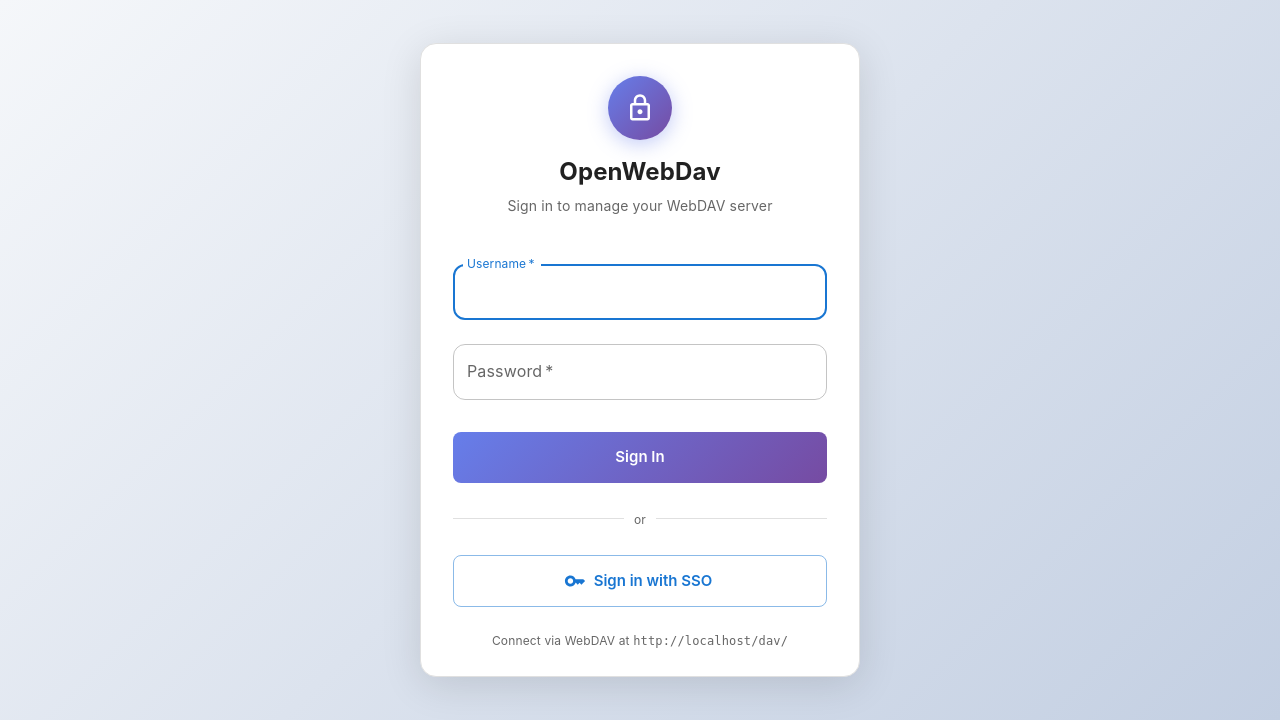
Test: LoginPage › shows error on invalid credentials
The image size is (1280, 720).
In the field labelled "Username *": (640, 292) x1=453 y1=264 x2=827 y2=320, type "wrong"
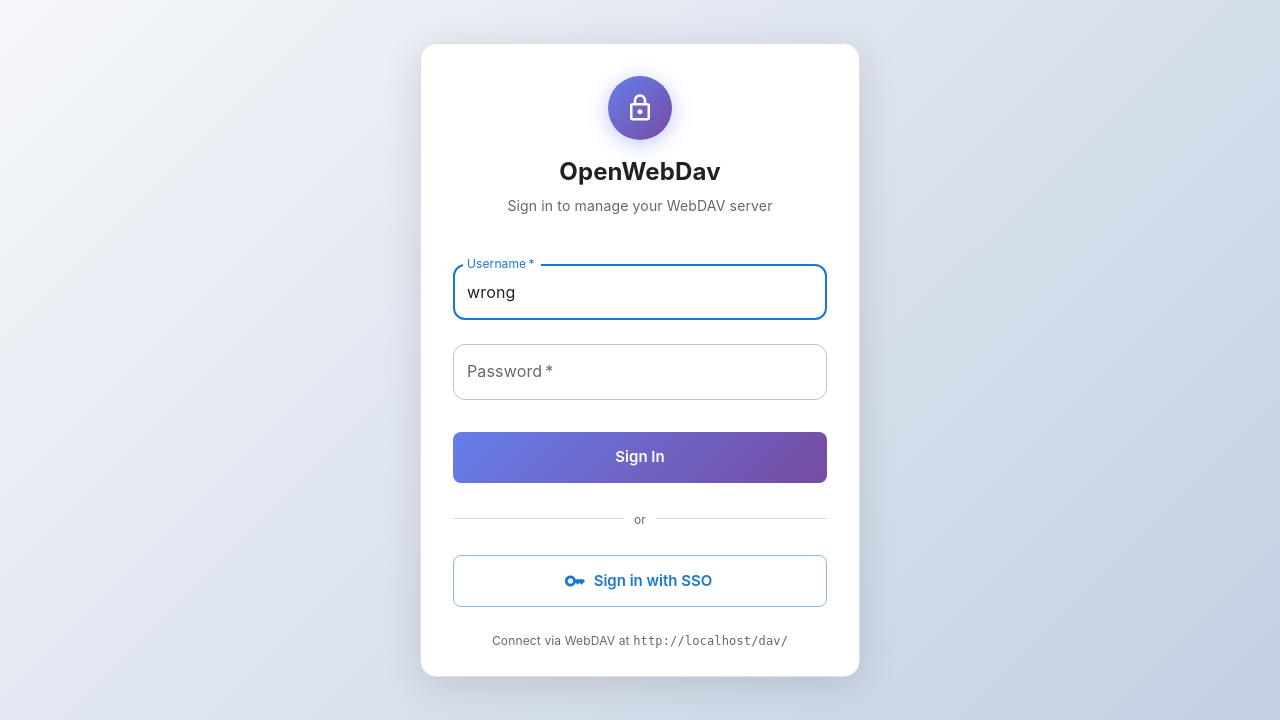
In the password field labelled "Password *": (640, 372) x1=453 y1=344 x2=827 y2=400, type "wrong"
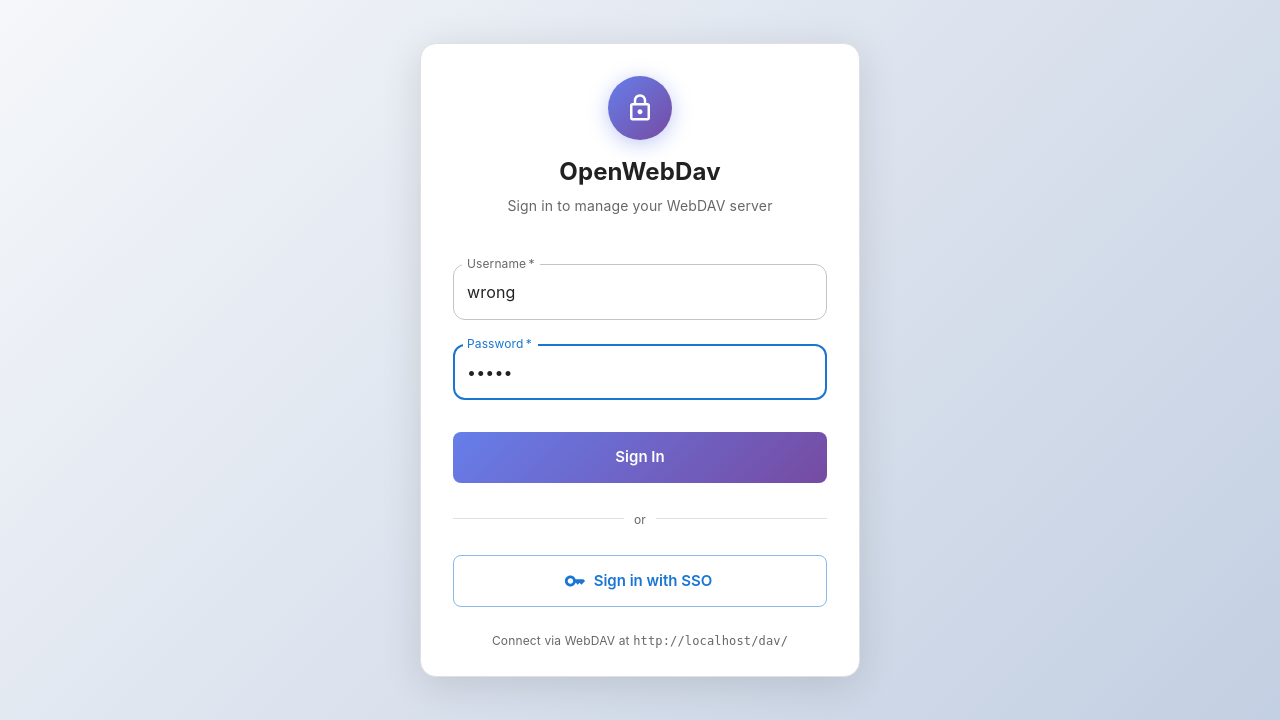
Click the button "Sign In": (640, 457) x1=453 y1=432 x2=827 y2=483
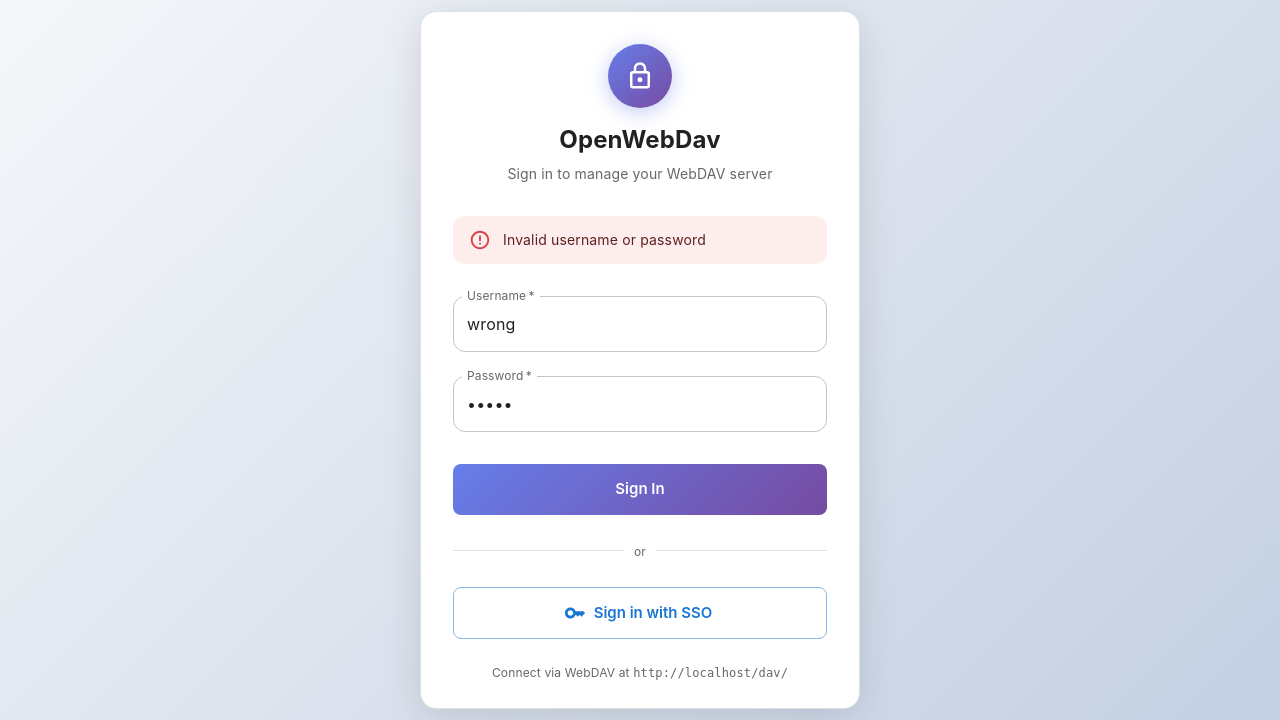
Check: the text "Invalid username or password" is shown, box x1=503 y1=231 x2=706 y2=248
